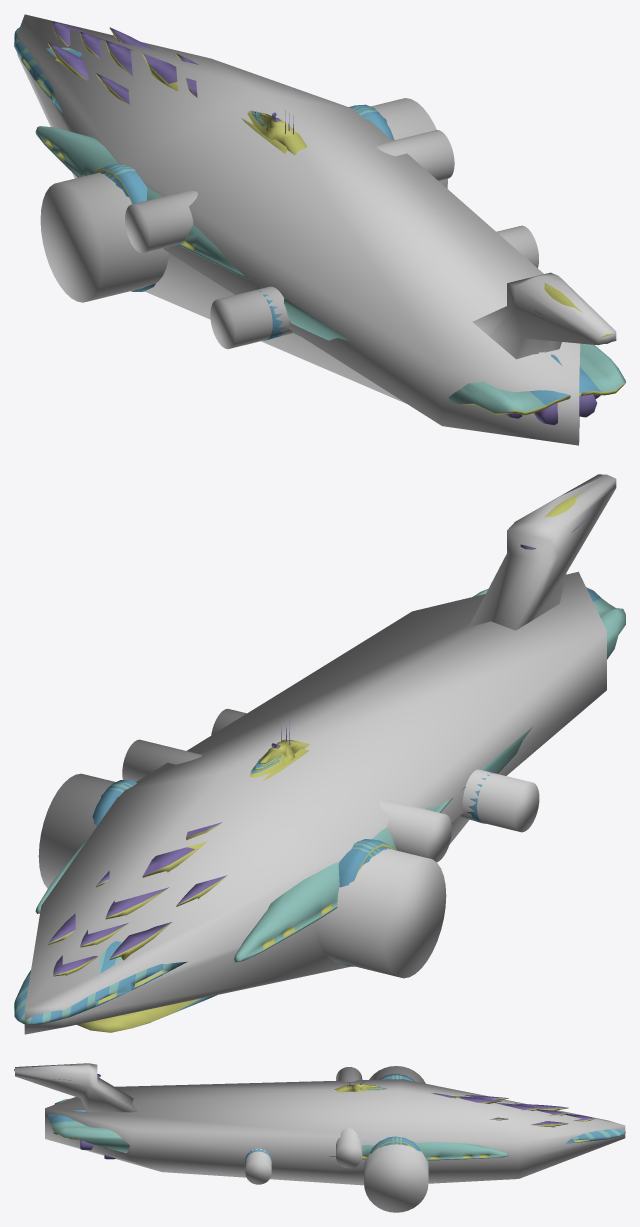
The picture shows the model from 3 angles, top to bottom: view 1: azimuth 30°, elevation 25°; view 2: azimuth 150°, elevation 25°; view 3: azimuth 270°, elevation 25°; orthographic projection. The views are drawn at different scales.
Visible parts, largest first — view 1: ship_maleo1_physics_Cylinder.002, ship_maleo1; view 2: ship_maleo1_physics_Cylinder.002, ship_maleo1; view 3: ship_maleo1_physics_Cylinder.002, ship_maleo1.
Part boxes in pixels (x1=…): ship_maleo1_physics_Cylinder.002: x1=17, y1=14, x2=616, y2=445; ship_maleo1: x1=14, y1=21, x2=625, y2=425; ship_maleo1_physics_Cylinder.002: x1=24, y1=474, x2=616, y2=1034; ship_maleo1: x1=14, y1=491, x2=625, y2=1032; ship_maleo1_physics_Cylinder.002: x1=15, y1=1063, x2=625, y2=1212; ship_maleo1: x1=14, y1=1065, x2=625, y2=1164.
Size of the model in its own units: 666 by 393 by 1947.
